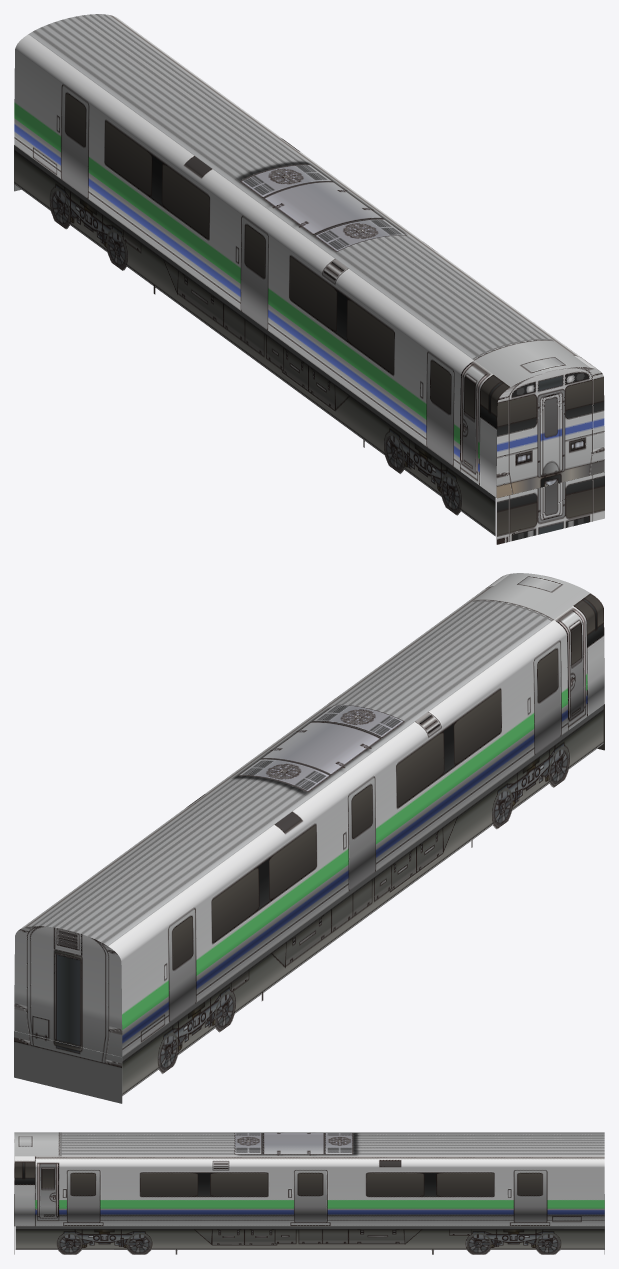
File: car1.glb
3 renders of one model, top to bottom at view 1: azimuth 30°, elevation 25°; view 2: azimuth 150°, elevation 25°; view 3: azimuth 270°, elevation 25°, orthographic. The views are drawn at different scales.
Parts seen in each view (by area): view 1: jr-hokkaido-kiha201-car1; view 2: jr-hokkaido-kiha201-car1; view 3: jr-hokkaido-kiha201-car1.
Part boxes in pixels (x1,y1,x2,y2): jr-hokkaido-kiha201-car1: (14, 14, 604, 544); jr-hokkaido-kiha201-car1: (14, 573, 604, 1103); jr-hokkaido-kiha201-car1: (14, 1132, 604, 1254).
Size of the model in its own units: 2.8 by 3.97 by 21.7.
Materials: 9 (8 with a texture image).
